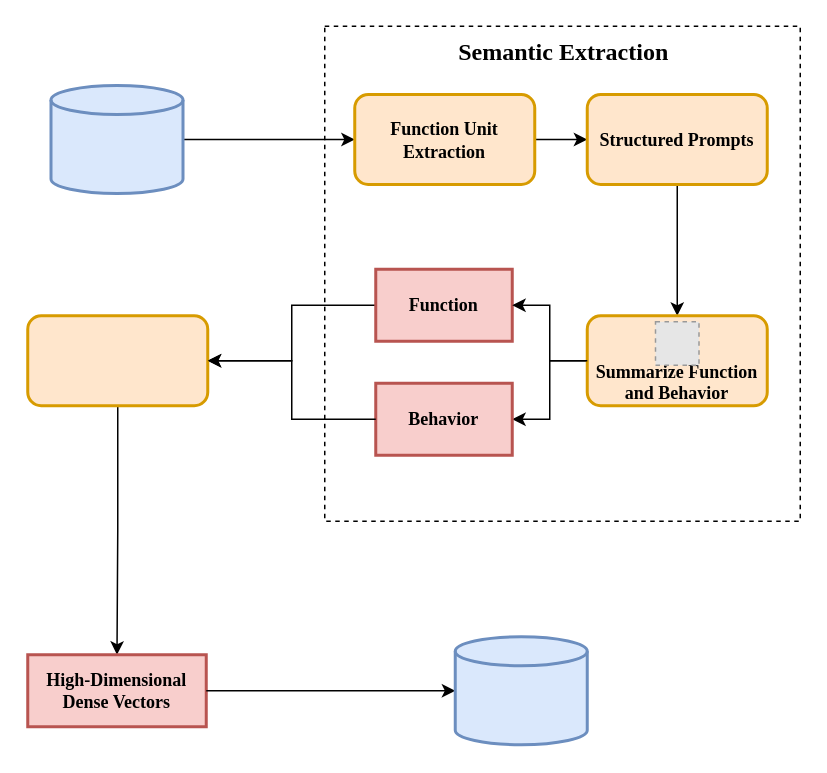
The diagram is 827 pixels wide and 773 high, and some of its shapes have lost their labels. Grey dashed boxes stand in for pictures. The centre of each missing label's shape, as x and y in pixels:
Chroma Vector Database: point 520,690
Embedding Model (Embedding): point 117,360
Train Set: point 116,138
